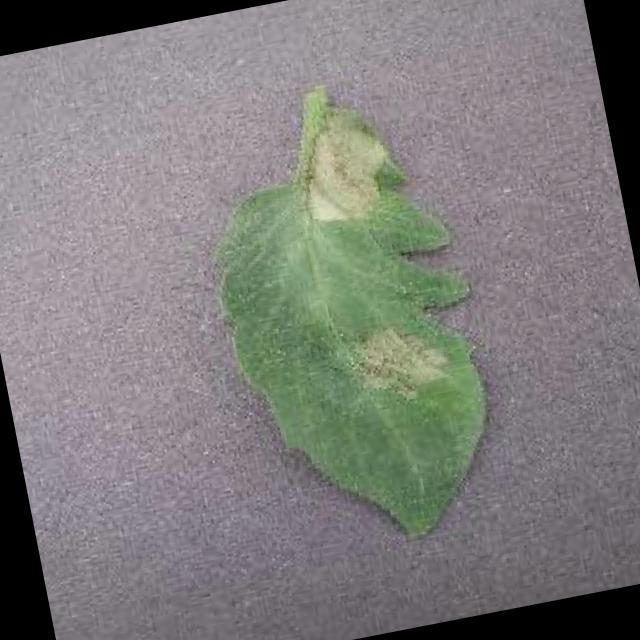Tomato late blight leaf: (184, 97, 510, 568)
